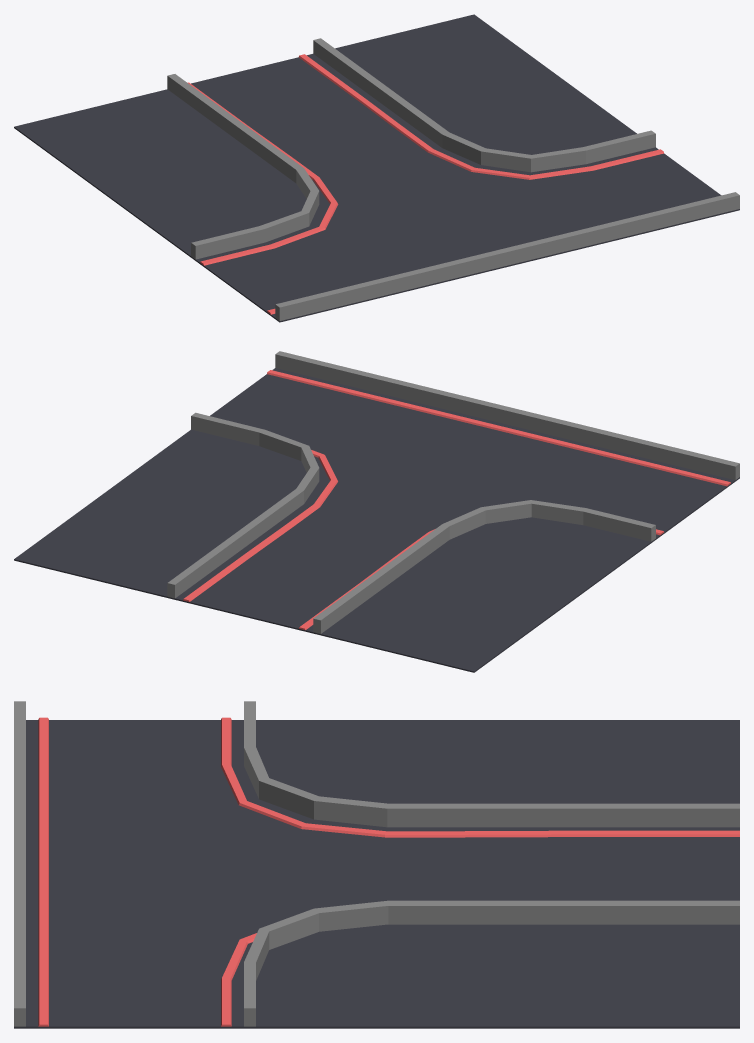
Rendered from kartkids_base_trk_150_jct_tjunction_3x3.glb.
3 renders of one model, top to bottom at view 1: azimuth 30°, elevation 25°; view 2: azimuth 150°, elevation 25°; view 3: azimuth 270°, elevation 25°, orthographic. The views are drawn at different scales.
Parts seen in each view (by area): view 1: kartkids_base_trk_010_rd_straight_1x1.046, kartkids_base_trk_020_trn_90_l_1x1.048, kartkids_base_trk_020_trn_90_l_1x1.087, kartkids_base_trk_020_trn_90_l_1x1.047; view 2: kartkids_base_trk_010_rd_straight_1x1.046, kartkids_base_trk_020_trn_90_l_1x1.048, kartkids_base_trk_020_trn_90_l_1x1.087, kartkids_base_trk_020_trn_90_l_1x1.088, kartkids_base_trk_020_trn_90_l_1x1.047; view 3: kartkids_base_trk_010_rd_straight_1x1.046, kartkids_base_trk_020_trn_90_l_1x1.048, kartkids_base_trk_020_trn_90_l_1x1.047, kartkids_base_trk_020_trn_90_l_1x1.087, kartkids_base_trk_020_trn_90_l_1x1.088.
Boxes of the visible parts, x1,y1,x2,y2 form: kartkids_base_trk_010_rd_straight_1x1.046: (14, 14, 739, 322); kartkids_base_trk_020_trn_90_l_1x1.048: (167, 38, 655, 259); kartkids_base_trk_020_trn_90_l_1x1.087: (275, 192, 739, 320); kartkids_base_trk_020_trn_90_l_1x1.047: (187, 54, 664, 265); kartkids_base_trk_010_rd_straight_1x1.046: (14, 368, 739, 672); kartkids_base_trk_020_trn_90_l_1x1.048: (167, 412, 655, 633); kartkids_base_trk_020_trn_90_l_1x1.087: (275, 351, 739, 480); kartkids_base_trk_020_trn_90_l_1x1.088: (267, 370, 730, 486); kartkids_base_trk_020_trn_90_l_1x1.047: (183, 450, 664, 630); kartkids_base_trk_010_rd_straight_1x1.046: (14, 720, 739, 1028); kartkids_base_trk_020_trn_90_l_1x1.048: (244, 701, 739, 1026); kartkids_base_trk_020_trn_90_l_1x1.047: (221, 717, 739, 1026); kartkids_base_trk_020_trn_90_l_1x1.087: (14, 701, 25, 1026); kartkids_base_trk_020_trn_90_l_1x1.088: (38, 717, 48, 1026).
Size of the model in its own units: 30 by 0.9339 by 30.
